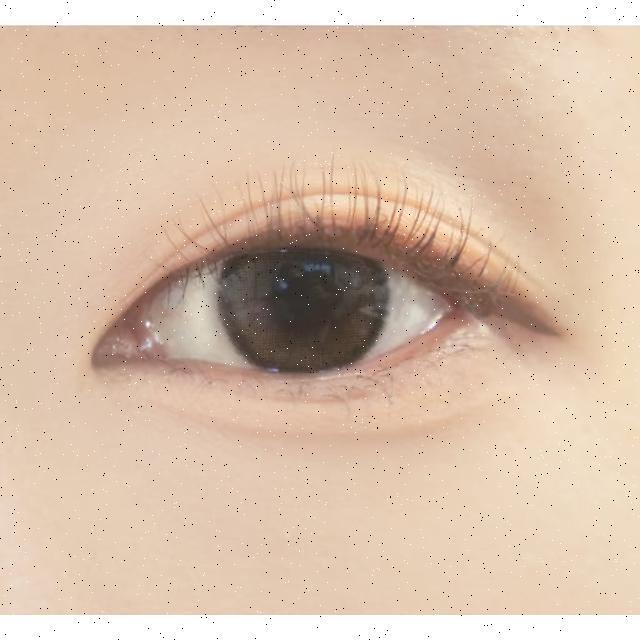Normal: (58, 140, 586, 479)
